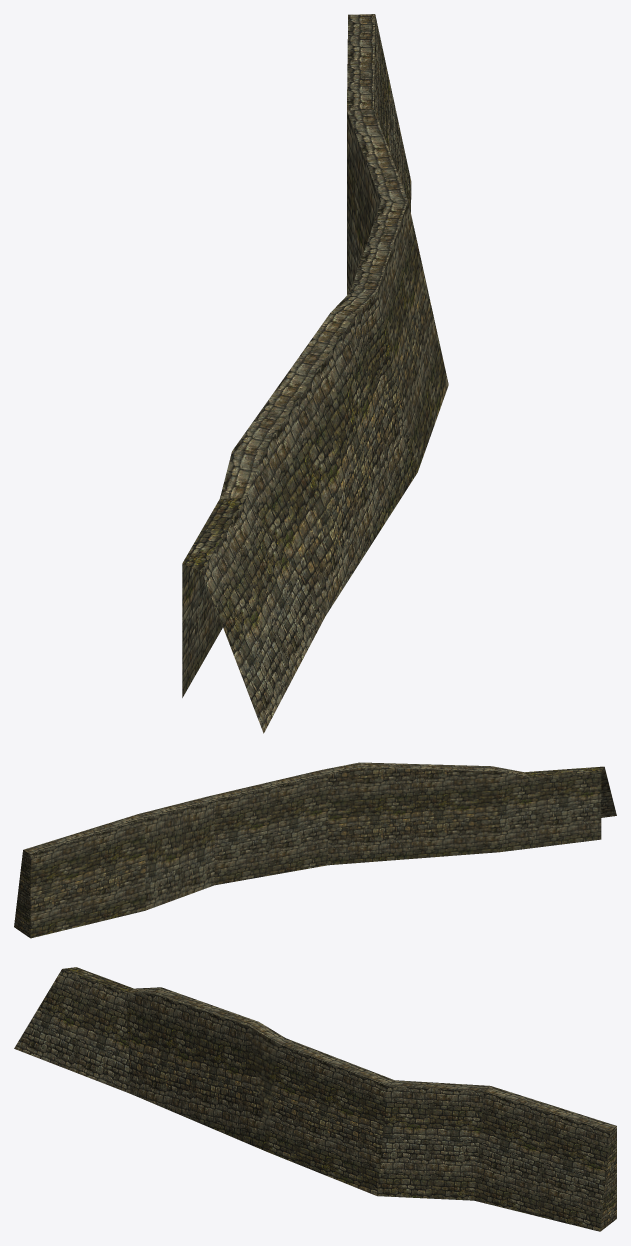
The picture shows the model from 3 angles, top to bottom: view 1: azimuth 30°, elevation 25°; view 2: azimuth 150°, elevation 25°; view 3: azimuth 270°, elevation 25°; orthographic projection. The views are drawn at different scales.
Visible parts, largest first — view 1: TN2_W11; view 2: TN2_W11; view 3: TN2_W11.
Part boxes in pixels (box(x1,y1,x2,y2)): TN2_W11: box(182, 14, 448, 733); TN2_W11: box(14, 762, 616, 938); TN2_W11: box(14, 967, 616, 1231).
Size of the model in its own units: 28.36 by 7.91 by 38.09.
2 materials, 2 textured.
